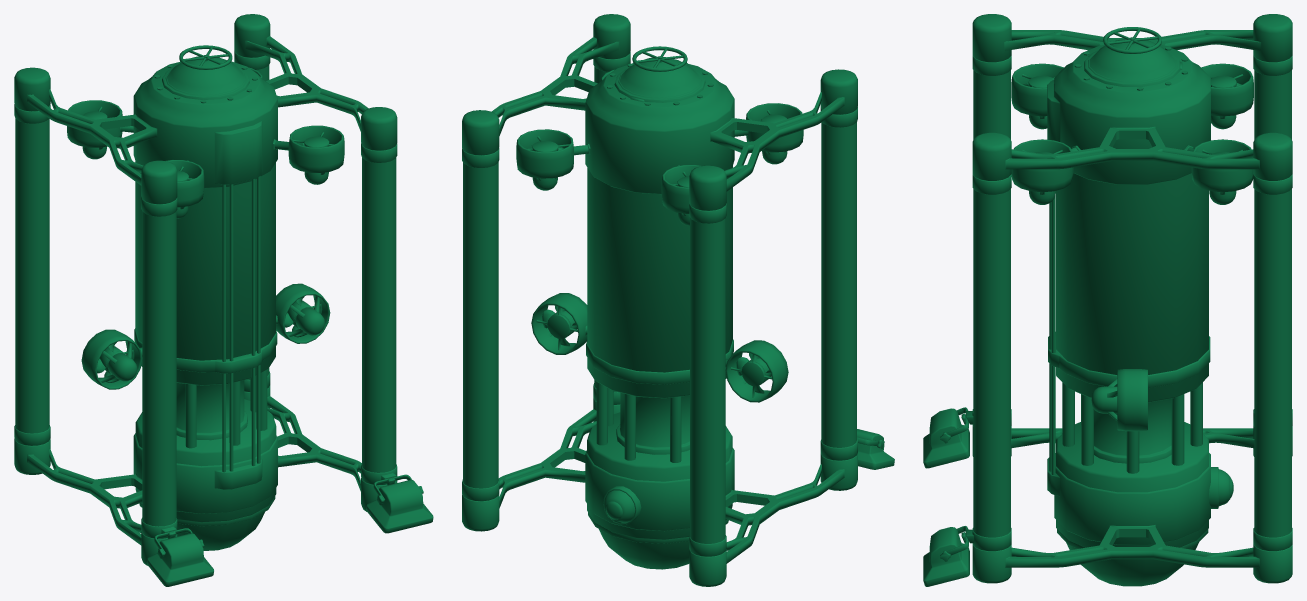
Rendered from rov.glb.
The picture shows the model from 3 angles, left to right: view 1: azimuth 30°, elevation 25°; view 2: azimuth 150°, elevation 25°; view 3: azimuth 270°, elevation 25°; orthographic projection. The views are drawn at different scales.
Visible parts, largest first — view 1: bodybase_low; view 2: bodybase_low; view 3: bodybase_low.
Boxes of the visible parts, left/top/right/bottom form: bodybase_low: left=14, top=14, right=433, bottom=586; bodybase_low: left=462, top=14, right=894, bottom=586; bodybase_low: left=923, top=14, right=1292, bottom=586.
Bounding box in the file's own units: 2.35 × 4.1 × 2.53.
